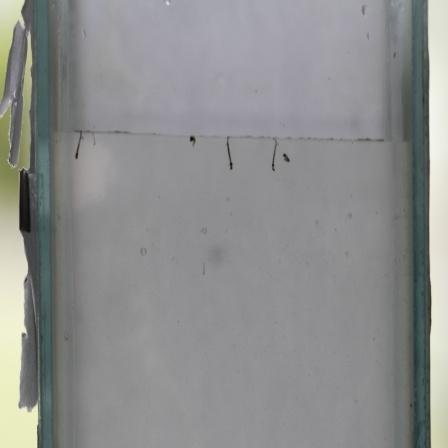Jentik-Nyamuk: (223, 133, 235, 173), (70, 127, 84, 160), (269, 135, 280, 176), (185, 132, 199, 150), (280, 150, 293, 168)
